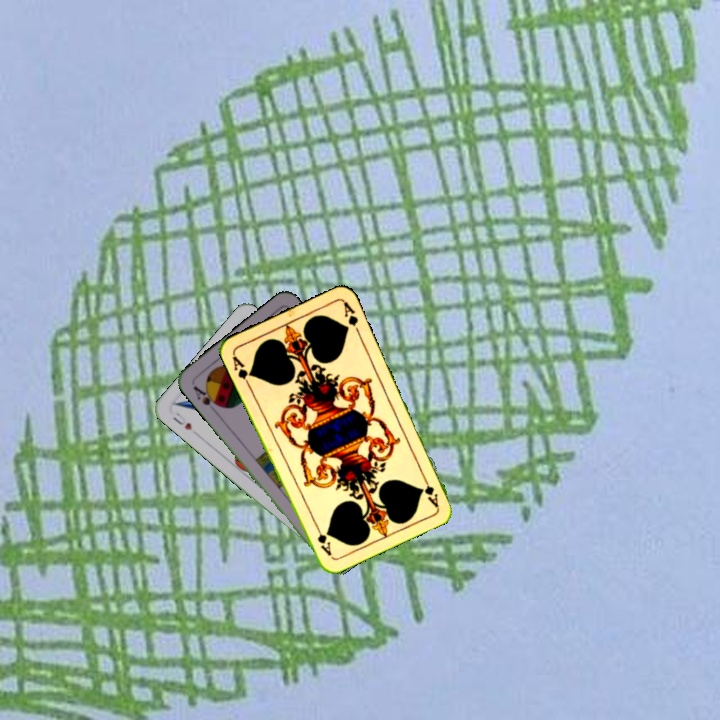GA: (228, 351, 255, 389), (418, 471, 441, 510)
HU: (169, 408, 195, 433)
SA: (189, 382, 224, 415)
